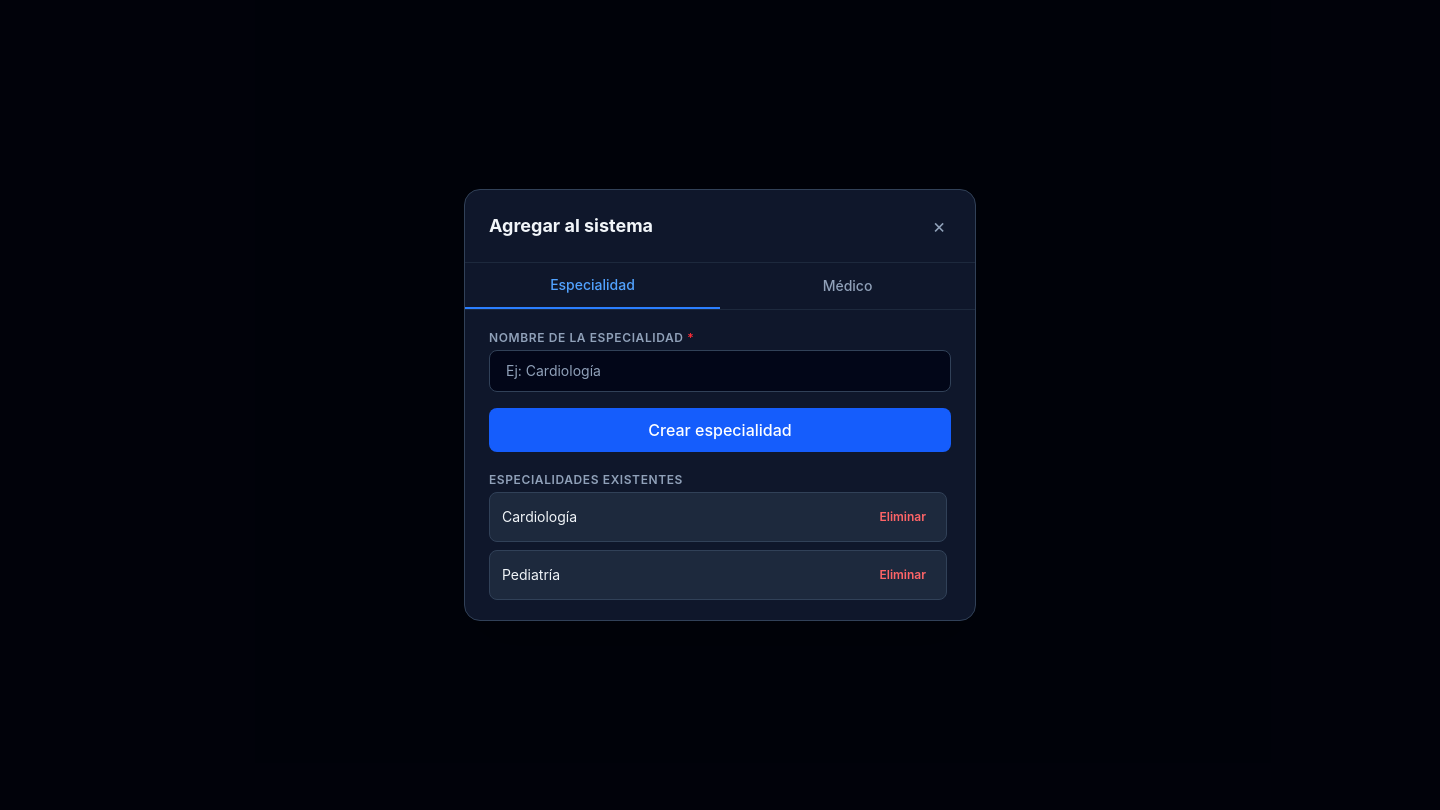
alta de especialidades › muestra el error si ya existe
Check: the text "Cardiología" is shown, box x1=502 y1=507 x2=577 y2=527
Type "cardiología" into the field with placeholder "Ej: Cardiología".
click(720, 371); type("cardiología")  # box x1=489 y1=350 x2=951 y2=392
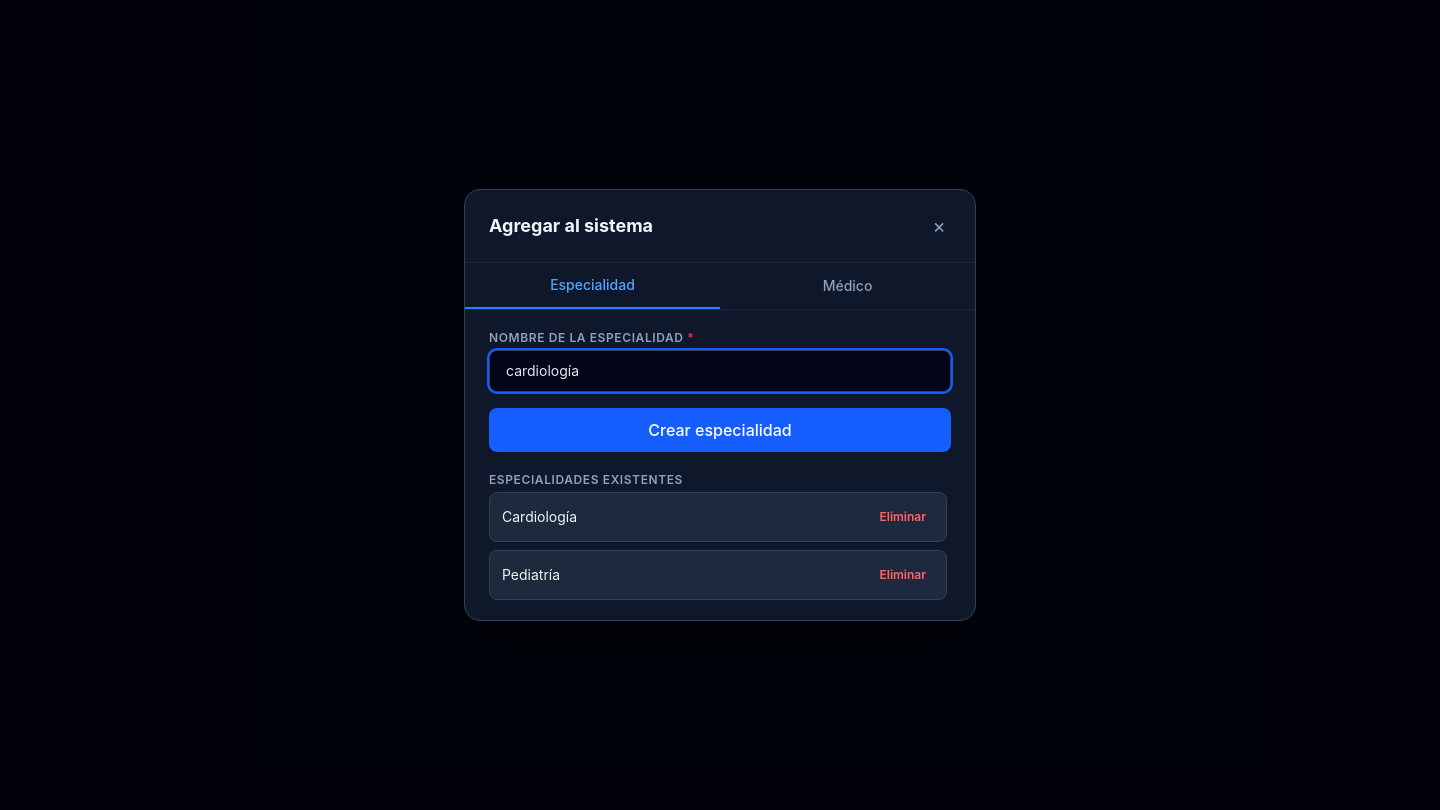
Click the button "Crear especialidad".
click(720, 430)  # box x1=489 y1=408 x2=951 y2=452
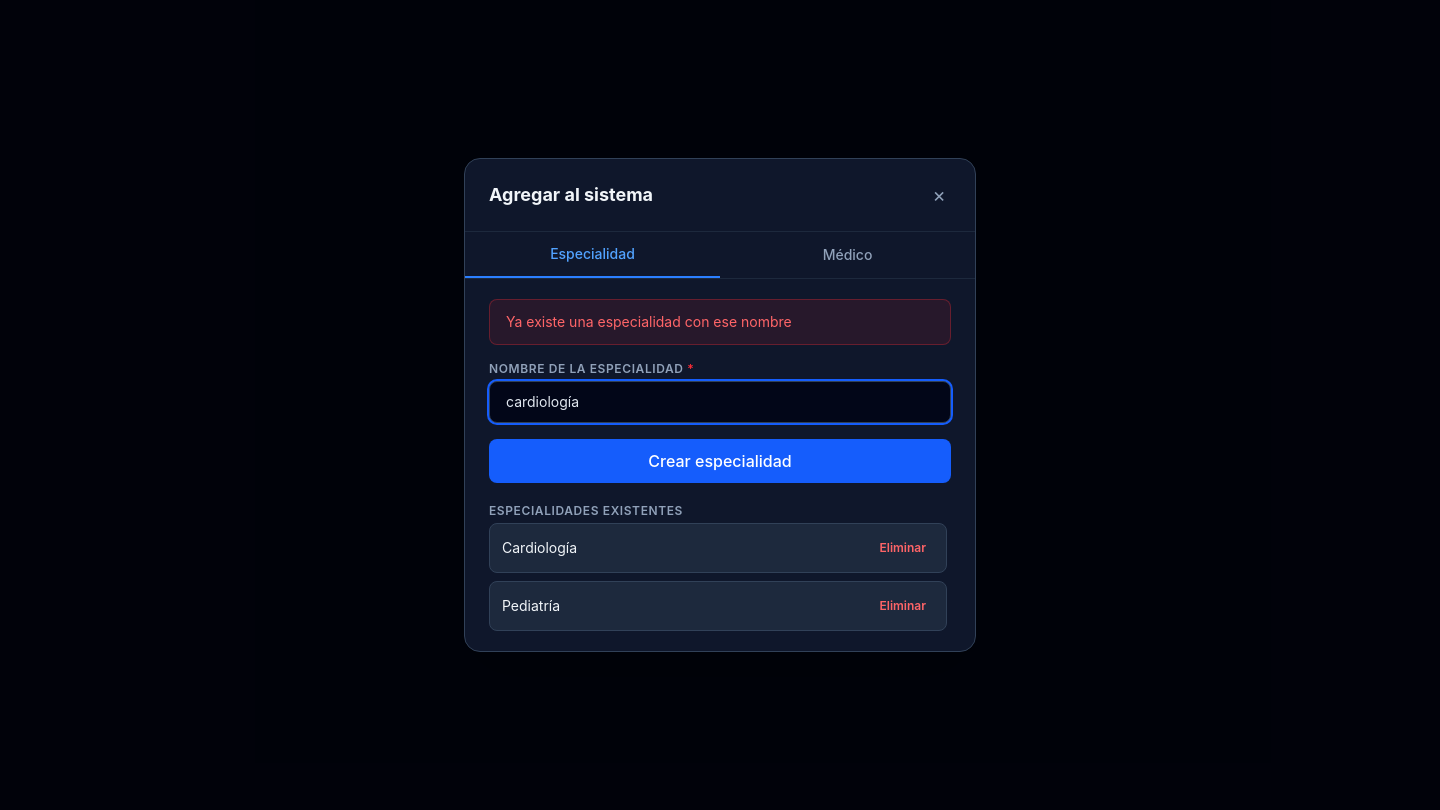
Check: the text "Ya existe una especialidad con ese nombre" is shown, box x1=489 y1=299 x2=951 y2=345
